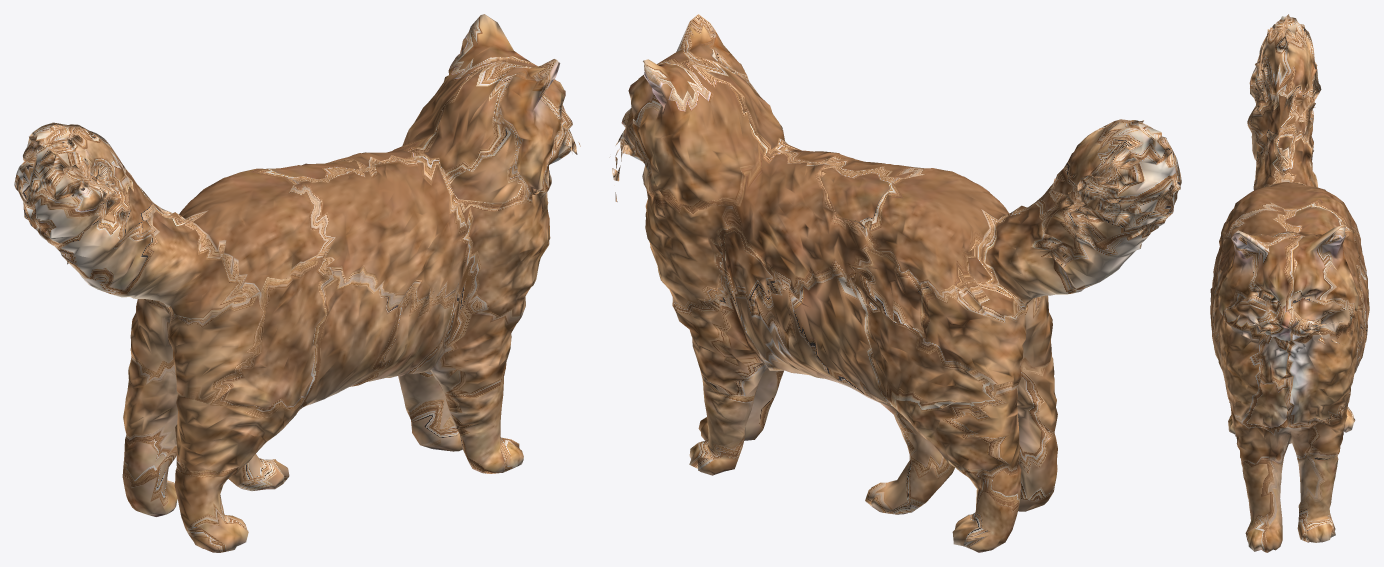
File: DEWEYCAT-lo.glb
3 renders of one model, left to right at view 1: azimuth 30°, elevation 25°; view 2: azimuth 150°, elevation 25°; view 3: azimuth 270°, elevation 25°, orthographic. The views are drawn at different scales.
Parts seen in each view (by area): view 1: tripo_node_6c6ac832-1b99-4e79-bb49-ae35edbb7303; view 2: tripo_node_6c6ac832-1b99-4e79-bb49-ae35edbb7303; view 3: tripo_node_6c6ac832-1b99-4e79-bb49-ae35edbb7303.
Part boxes in pixels (x1=…): tripo_node_6c6ac832-1b99-4e79-bb49-ae35edbb7303: x1=14, y1=14, x2=580, y2=552; tripo_node_6c6ac832-1b99-4e79-bb49-ae35edbb7303: x1=609, y1=14, x2=1181, y2=552; tripo_node_6c6ac832-1b99-4e79-bb49-ae35edbb7303: x1=1210, y1=14, x2=1369, y2=552.
Bounding box in the file's own units: 1.32 × 0.9953 × 0.4008.
Materials: 1 (1 with a texture image).
